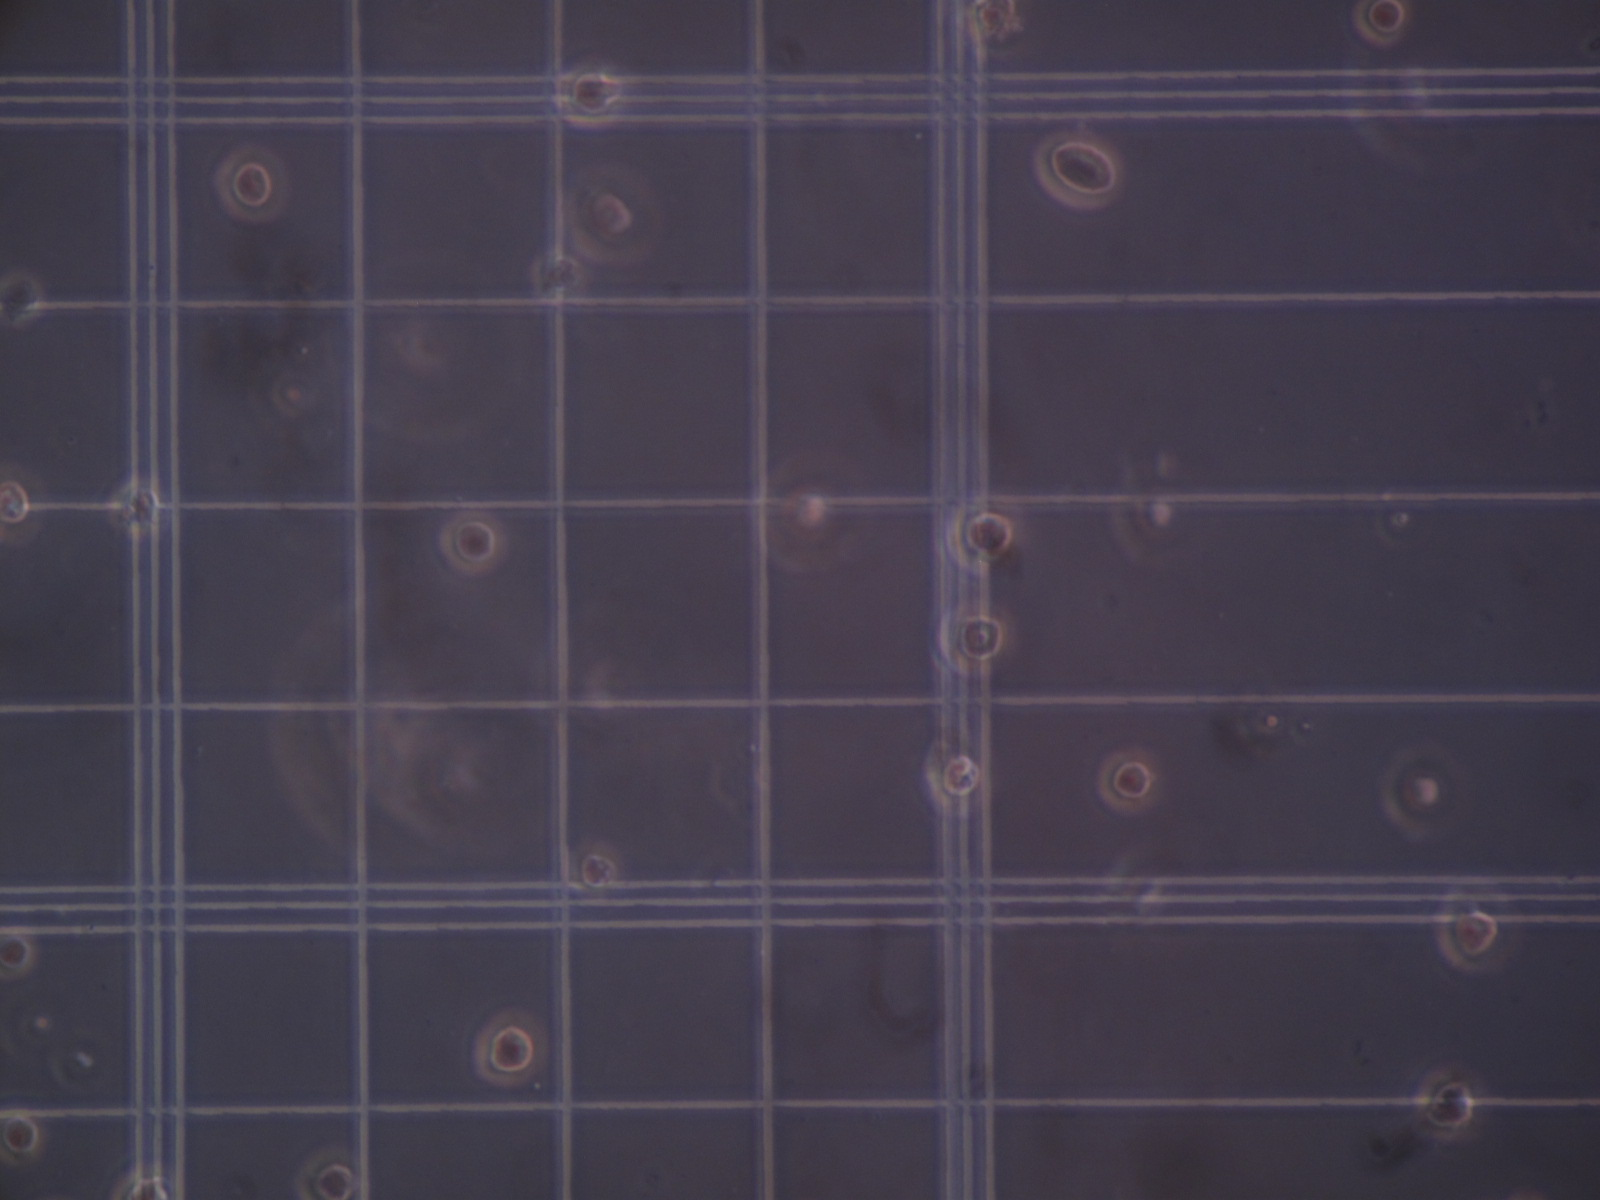hemo: (750, 453, 873, 570), (1374, 739, 1471, 845), (564, 161, 664, 263), (1109, 483, 1218, 568), (1435, 879, 1521, 976), (1032, 132, 1124, 212), (941, 493, 1022, 575), (469, 1008, 549, 1087), (931, 604, 1015, 677), (214, 145, 289, 222), (1415, 1064, 1484, 1142), (923, 735, 989, 817), (553, 57, 627, 127), (438, 511, 511, 574), (1099, 747, 1162, 816), (294, 1145, 369, 1200), (1, 460, 50, 543), (957, 1, 1031, 55), (110, 475, 165, 542), (567, 838, 624, 903), (1, 1099, 47, 1170), (106, 1163, 191, 1200), (1352, 1, 1405, 48), (1, 272, 43, 328), (1, 926, 35, 982)
